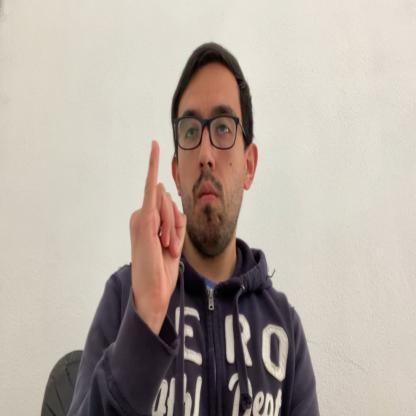I: (130, 140, 188, 324)
